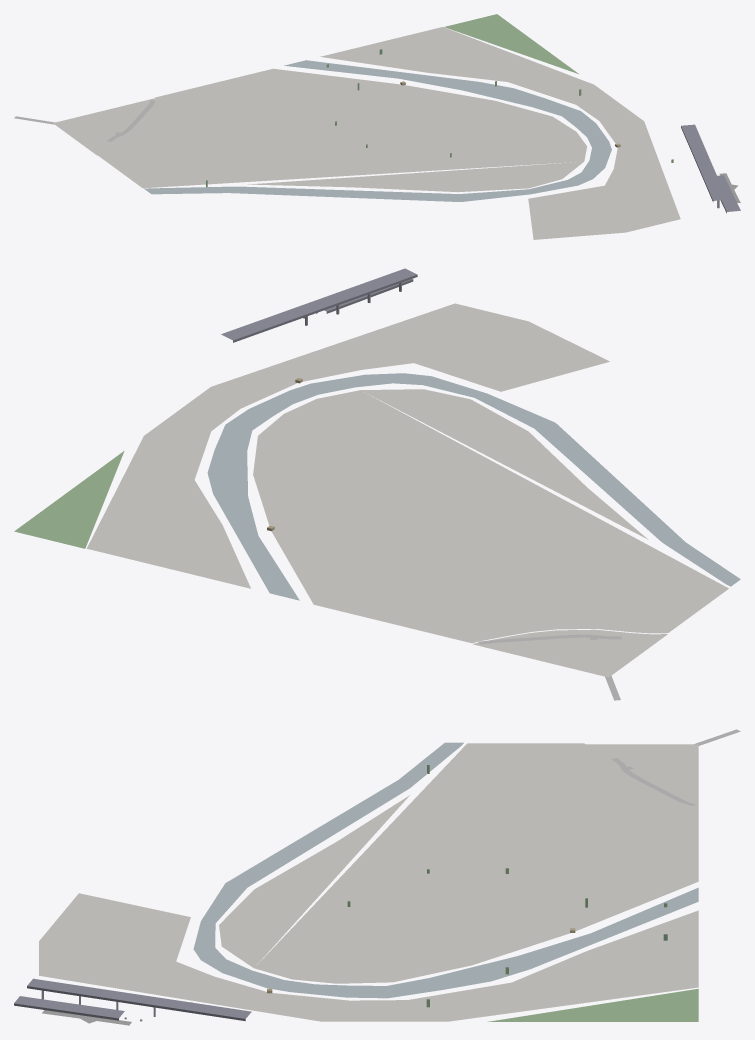
3 renders of one model, top to bottom at view 1: azimuth 30°, elevation 25°; view 2: azimuth 150°, elevation 25°; view 3: azimuth 270°, elevation 25°, orthographic. The views are drawn at different scales.
Size of the model in its own units: 551 by 14.92 by 551.
